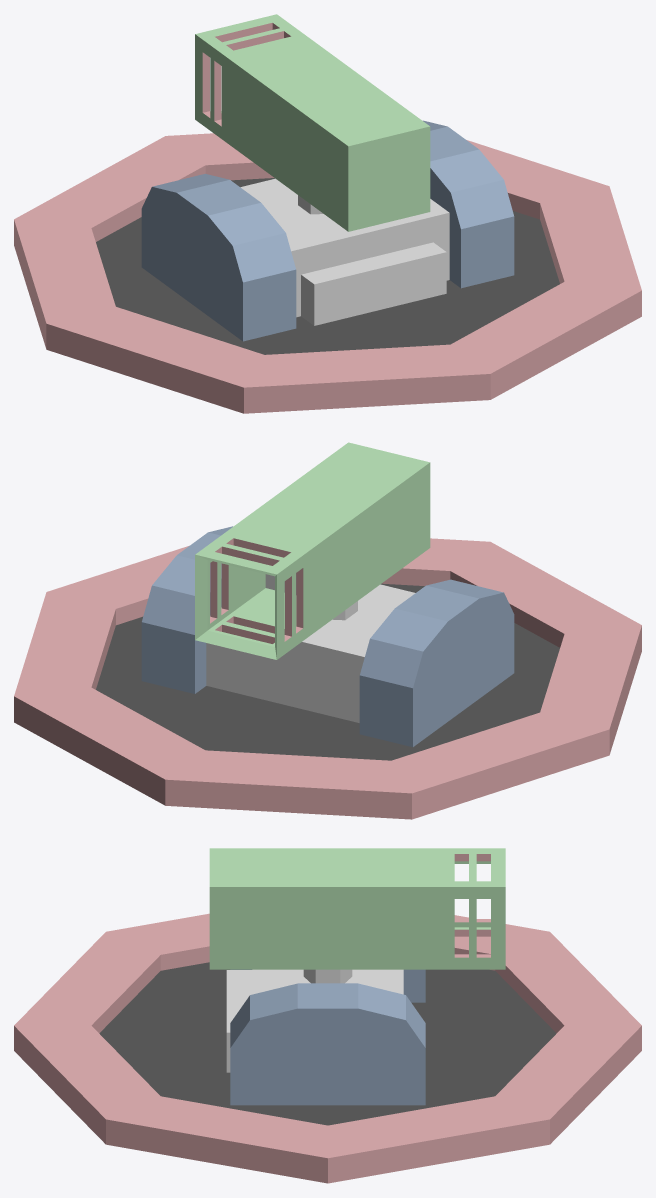
Rendered from TorreDanoem reaAVC1.fbx.
3 renders of one model, top to bottom at view 1: azimuth 30°, elevation 25°; view 2: azimuth 150°, elevation 25°; view 3: azimuth 270°, elevation 25°, orthographic. The views are drawn at different scales.
Parts seen in each view (by area): view 1: Base, Torre; view 2: Base, Torre; view 3: Base, Torre.
Part boxes in pixels (x1,y1,x2,y2): Base: [14, 133, 641, 413]; Torre: [91, 14, 564, 341]; Base: [14, 538, 641, 819]; Torre: [91, 442, 564, 747]; Base: [14, 913, 641, 1183]; Torre: [91, 848, 564, 1105].
Size of the model in its own units: 495 by 161 by 495.
